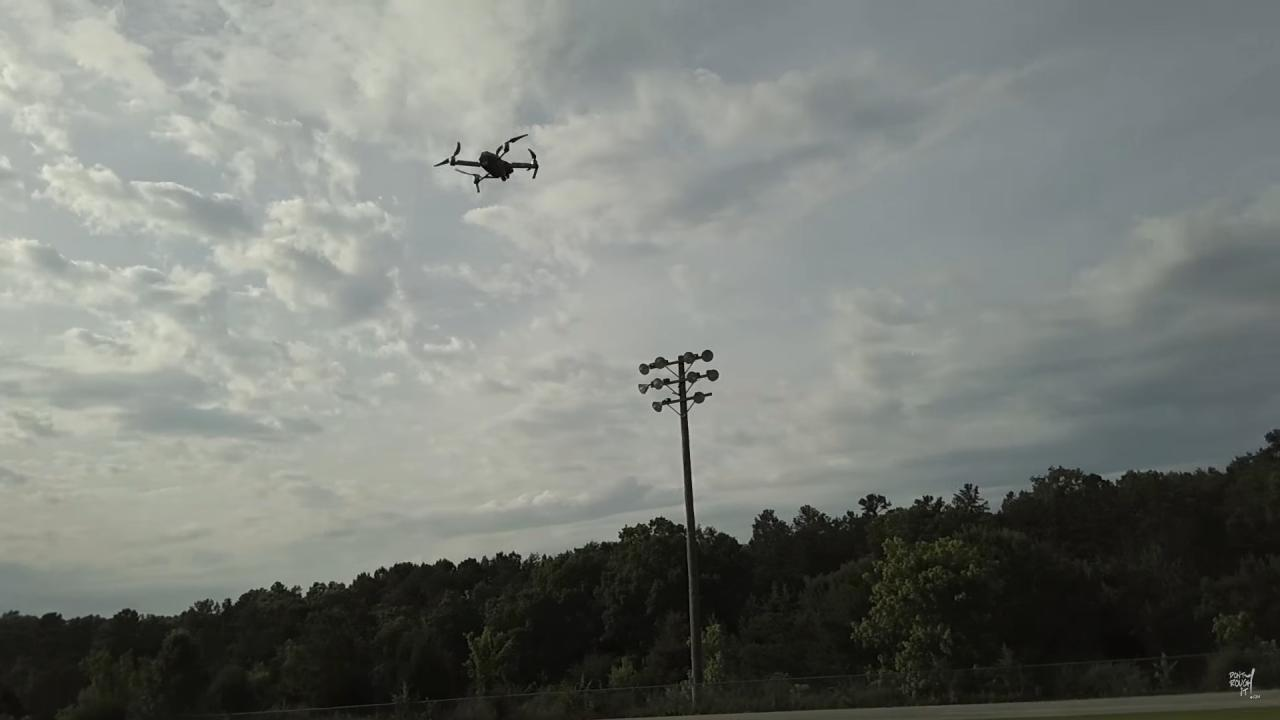Drone: (422, 119, 555, 205)
